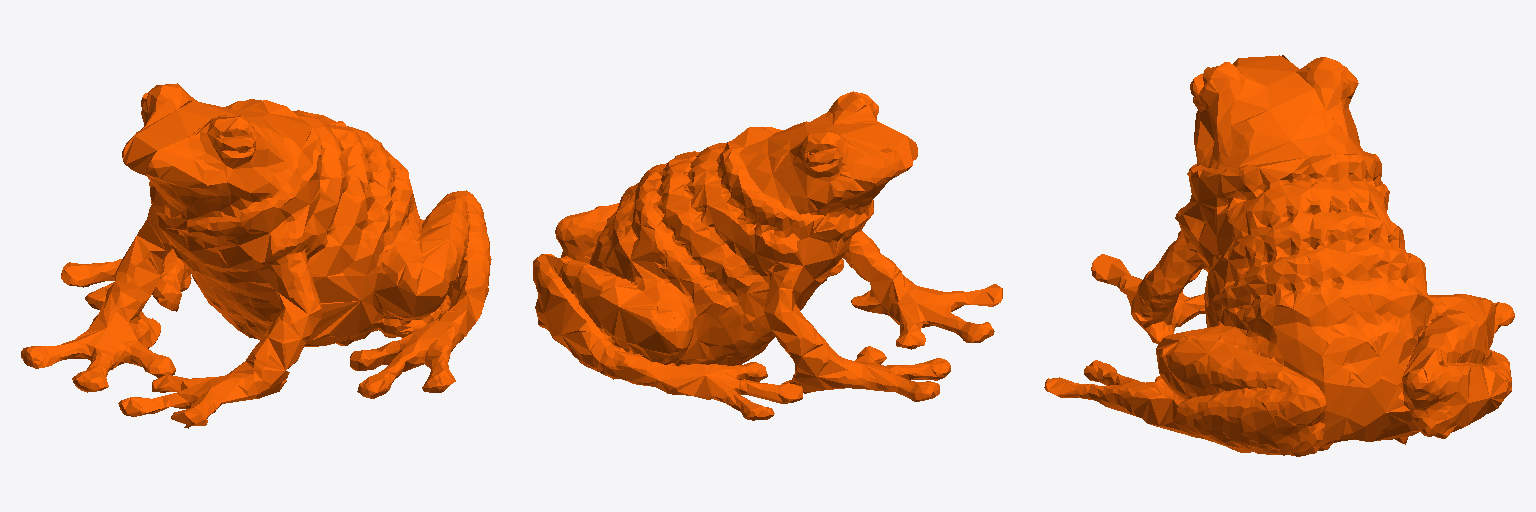
URDF robot description (sweaterfrog_1step):
<?xml version="1.0" ?>
<robot name="sweaterfrog_1step">
   <material name="obj_color">
      <color rgba="1.0 0.423529411765 0.0392156862745 1.0"/>
   </material>
   <link name="top">
      <inertial>
         <origin rpy="3.107555261150762e-05 4.968963714564529e-05 5.533389526739122e-05" xyz="0.007232275822222859 0.006159333541771365 -0.006325137743106169"/>
         <mass value="0.09543285742826625"/>
         <inertia ixx="3.837480993750241e-05" ixy="-3.817030697476362e-06" ixz="9.874284494483326e-06" iyy="4.840510752252731e-05" iyz="3.491903401344016e-06" izz="4.931916756451438e-05"/>
      </inertial>
      <visual>
         <origin rpy="0 0 0" xyz="0 0 0"/>
         <geometry>
            <mesh filename="top_watertight_tiny.stl" scale="1 1 1"/>
         </geometry>
         <material name="obj_color"/>
      </visual>
      <collision>
         <origin rpy="0 0 0" xyz="0 0 0"/>
         <geometry>
            <mesh filename="top_watertight_tiny.obj" scale="1 1 1"/>
         </geometry>
      </collision>
   </link>
   <link name="bottom">
      <inertial>
         <origin rpy="1.633333333199431e-08 1.633333333199431e-08 1.633333333362855e-08" xyz="0.3464080000000008 0.3464080000000008 0.3464080000000008"/>
         <mass value="0.0009800000000000017"/>
         <inertia ixx="1.633333333253906e-08" ixy="5.447480642029219e-19" ixz="5.447480642029219e-19" iyy="1.633333333253906e-08" iyz="5.447480642029219e-19" izz="1.633333333253906e-08"/>
      </inertial>
      <visual>
         <origin rpy="0 0 0" xyz="0 0 0"/>
         <geometry>
            <mesh filename="bottom_watertight_tiny.stl" scale="1 1 1"/>
         </geometry>
         <material name="obj_color"/>
      </visual>
   </link>
   <joint name="rotation" type="revolute">
      <origin xyz="0 0 0"/>
      <axis xyz="0 0 -1"/>
      <parent link="bottom"/>
      <child link="top"/>
      <dynamics damping="1.0" friction="1.0"/>
      <limit effort="0.1" velocity="0.1" lower="0" upper="0.001"/>
   </joint>
</robot>

--- What the picture shows (computed from the rendered views, not written in the file) ---
3 views of the same robot in one strip: view 1: azimuth 30°, elevation 25°; view 2: azimuth 150°, elevation 25°; view 3: azimuth 270°, elevation 25° (orthographic).
Robot: sweaterfrog_1step — 2 links, 1 joints (1 revolute); root link bottom; default pose: all joints at 0.
Visible links, largest first — view 1: top; view 2: top; view 3: top.
Boxes of the visible links, <box> form: top: <box>21,83,491,428</box>; top: <box>533,91,1002,420</box>; top: <box>1044,55,1514,456</box>.
Bounding box of the posed robot: 0.0996 × 0.089 × 0.0619 m (x, y, z).
Meshes: 2 distinct files referenced, 1 mesh visuals loaded (1 binary STL); not drawn: 1 (reference not matched to a file when rendering).
